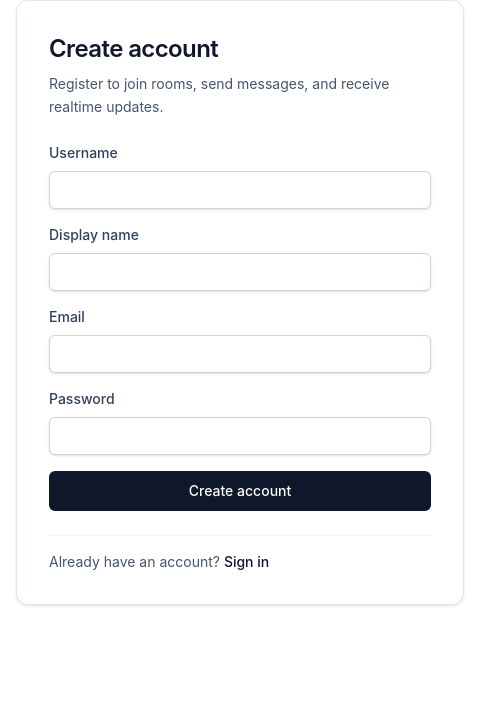
Test: RegisterPage › validates required fields using the shared schema
Step 1. Click the button "Create account" → x=240, y=490, box [49,470,431,510]
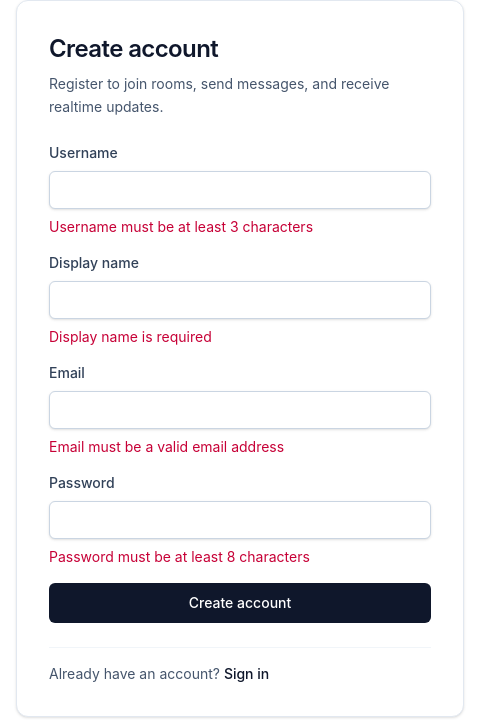
Check: the text "Username must be at least 3 characters" is shown, box [49,218,313,234]
